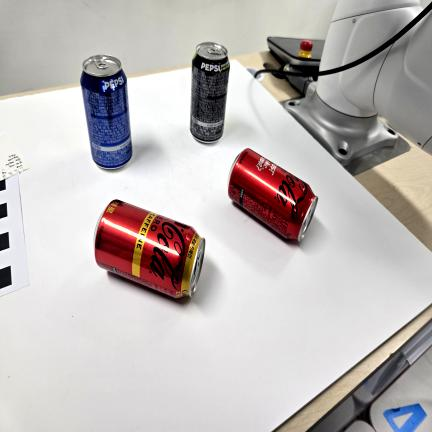can_coke_decaf: (94, 200, 205, 298)
can_coke_zero: (228, 148, 318, 242)
can_pepsi: (80, 55, 132, 169)
can_pepsi_zero: (190, 42, 230, 143)
